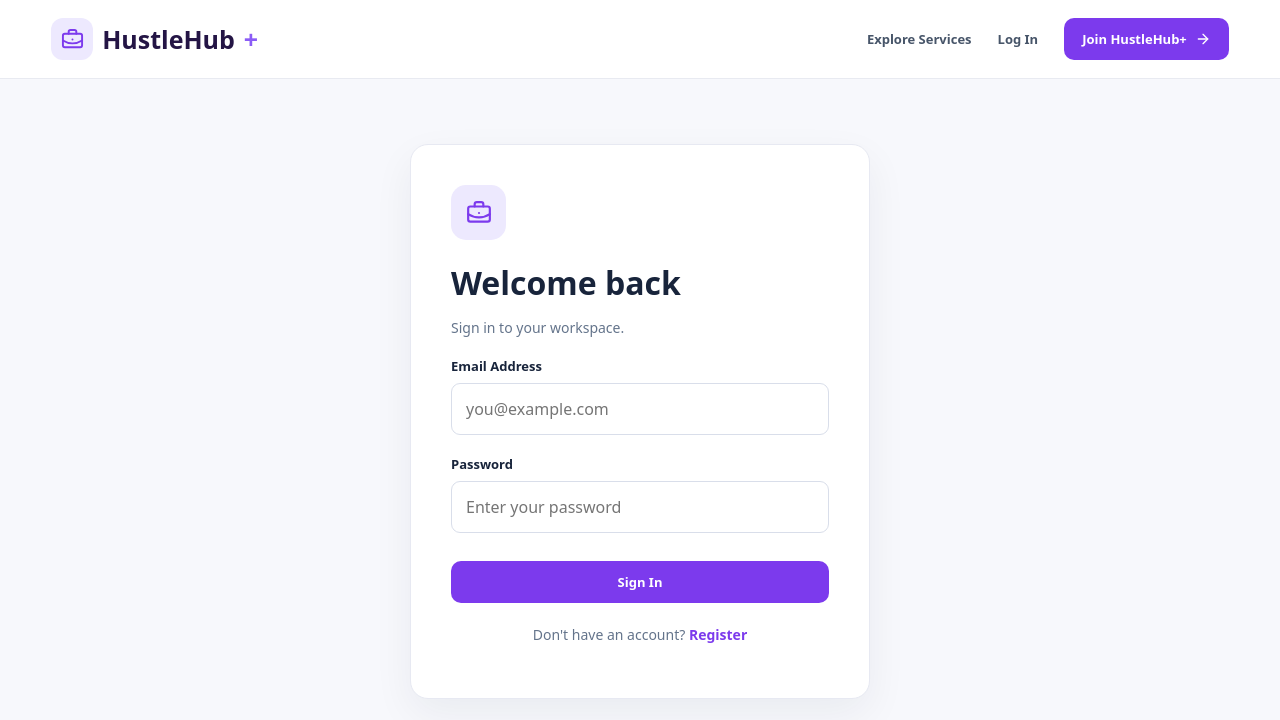
Test: HustleHub+ frontend › displays a message when login credentials are rejected
The image size is (1280, 720).
Type "wrong@example.com" into the field with placeholder "you@example.com".
click(640, 409); type("wrong@example.com")  # box [451,383,829,435]
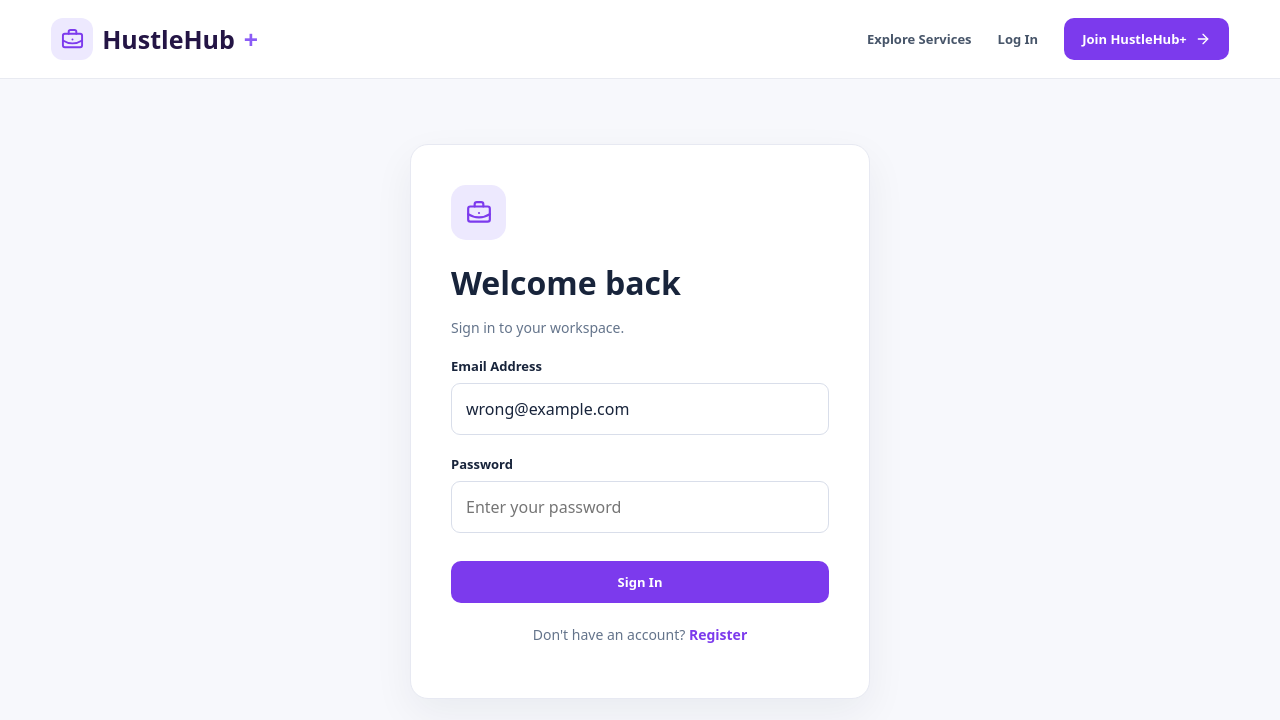
Type "WrongPassword123" into the password field with placeholder "Enter your password".
click(640, 507); type("WrongPassword123")  # box [451,481,829,533]
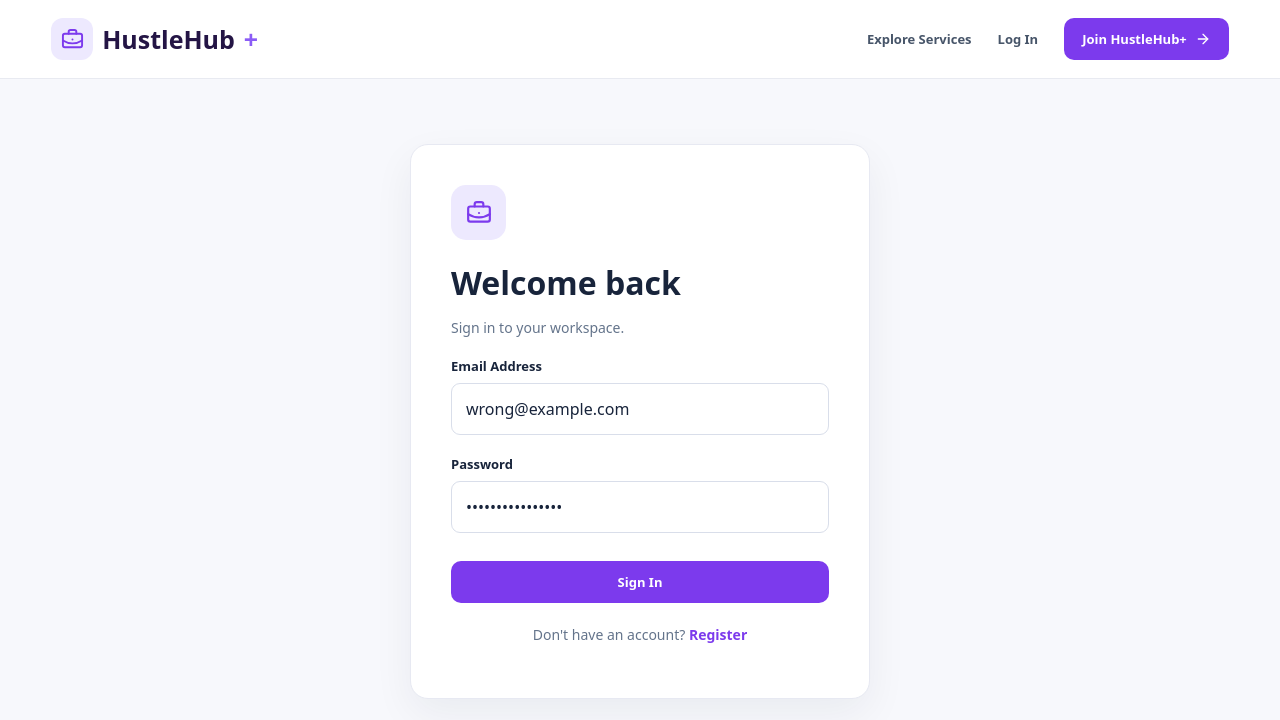
Click the button "Sign In".
click(640, 582)  # box [451,561,829,603]
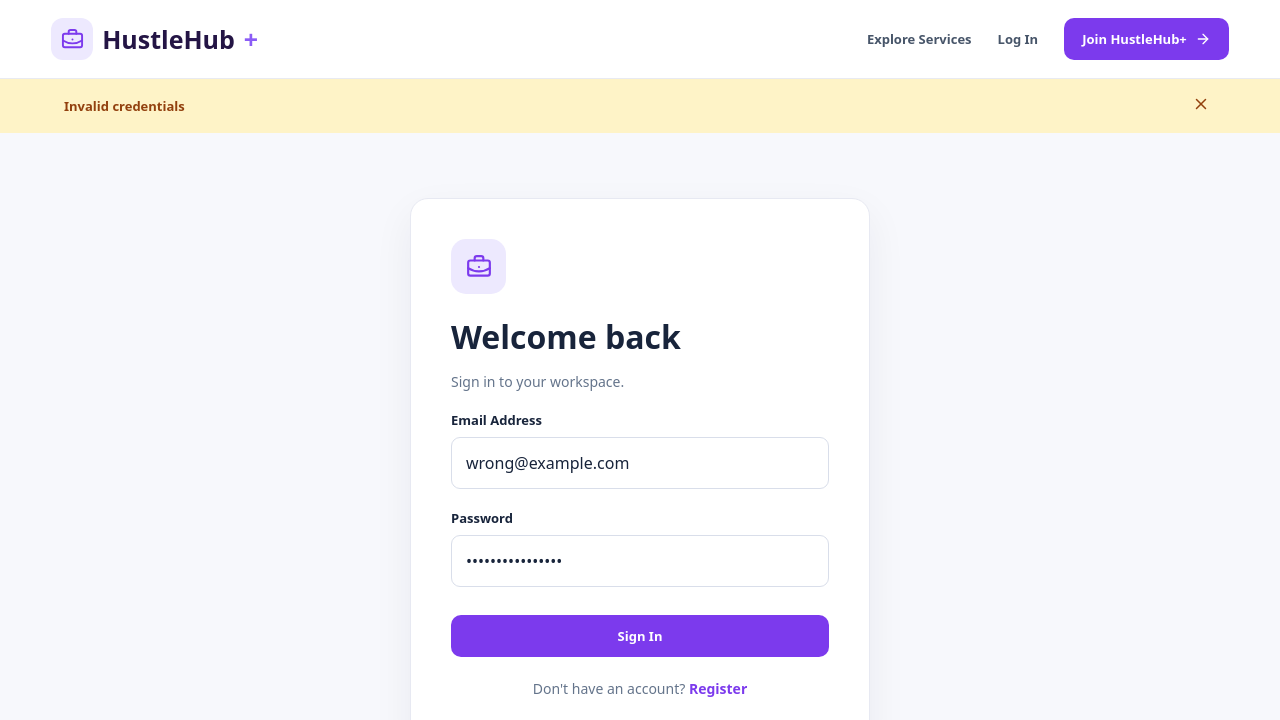
Expected: the text "Invalid credentials" is shown, [64,97,185,115]
